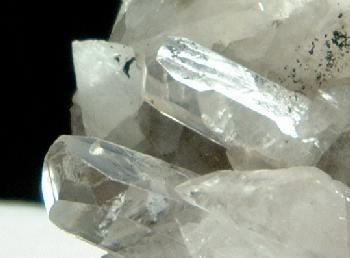calcite: (42, 38, 350, 258)
